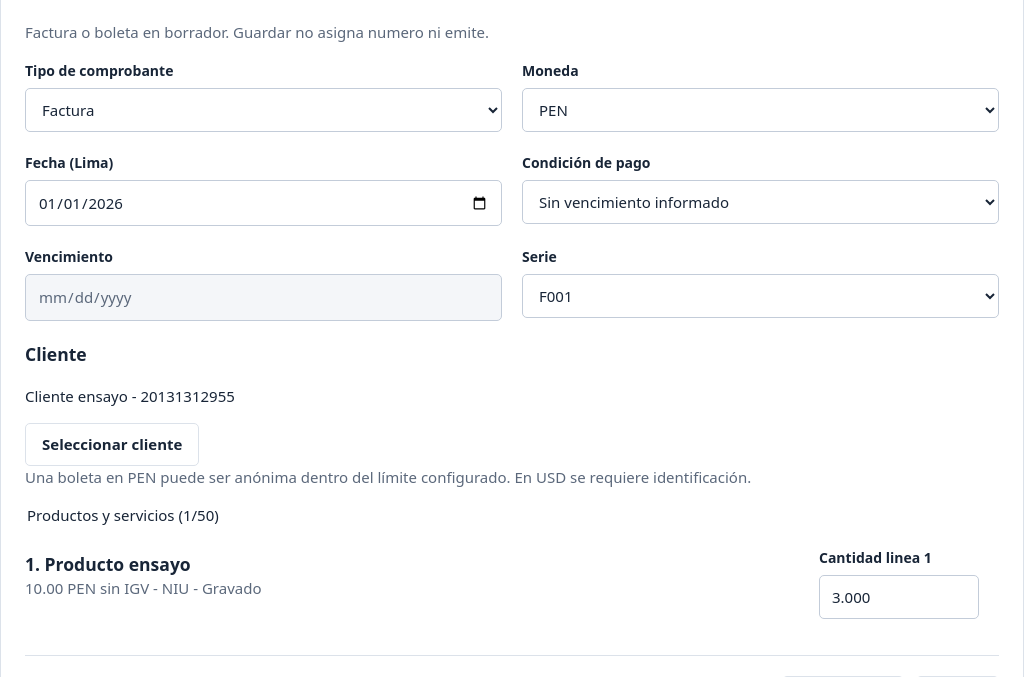
cambiar moneda conserva lineas y exige productos compatibles
Later steps or results of the test are not shown.
Select "USD" in the dropdown labelled "Moneda": point(760, 110) [522,88,999,132]
(page scrolled)
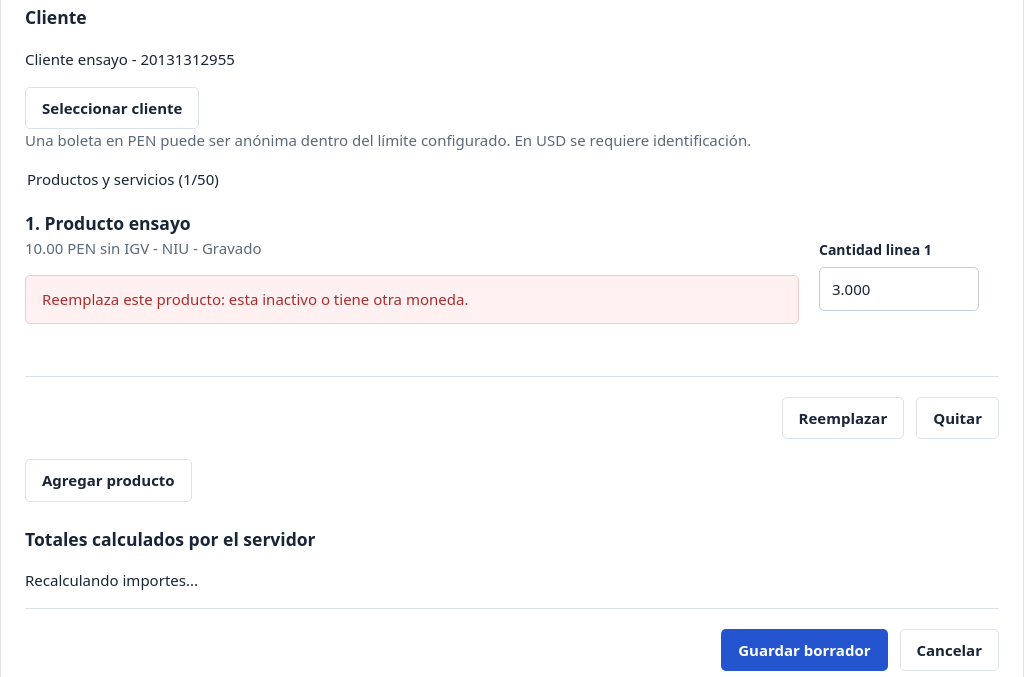
Expected: the heading "1. Producto ensayo" is shown, [25,211,191,235]
Expected: the text "Reemplaza este producto: esta inactivo o tiene otra moneda." is shown, [25,275,799,324]
